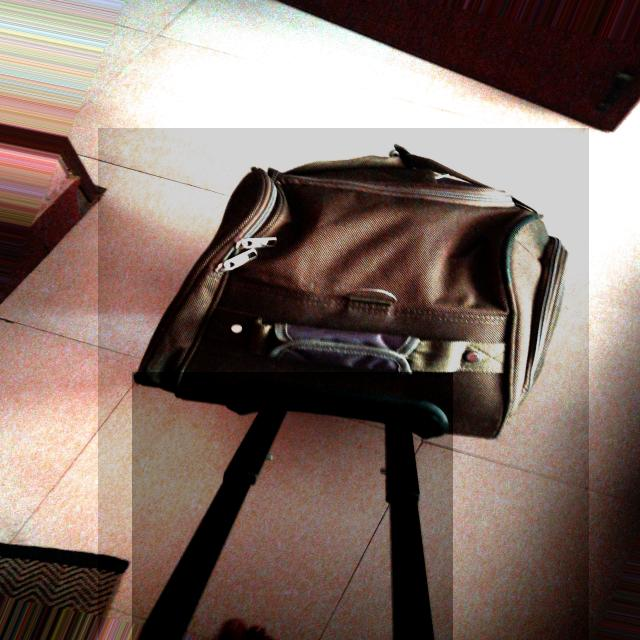Bag: (104, 129, 582, 638)
Handle: (131, 381, 452, 634)
